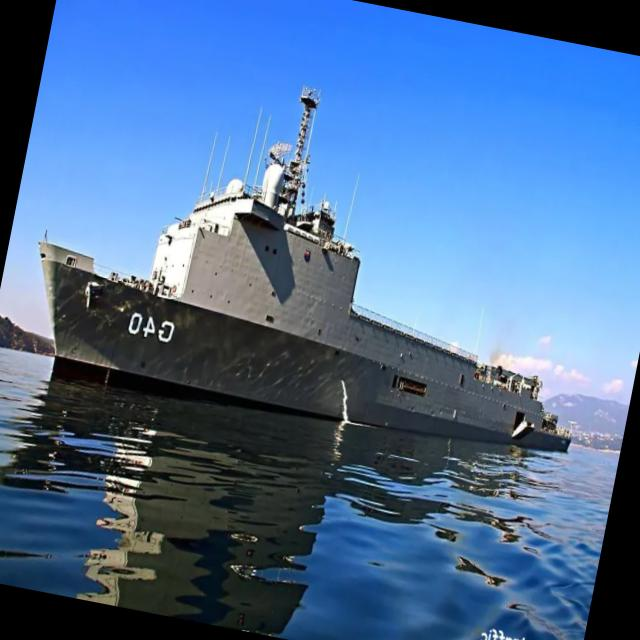Military: (39, 89, 571, 450)
